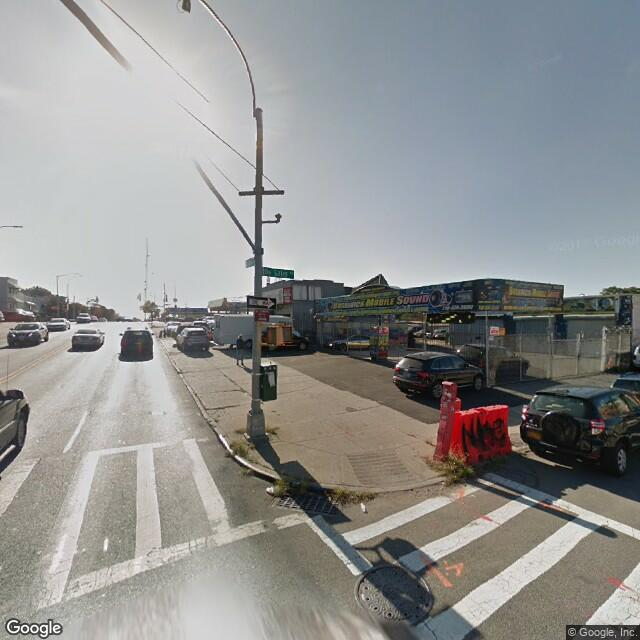litter: (264, 481, 289, 499), (358, 500, 372, 517)
